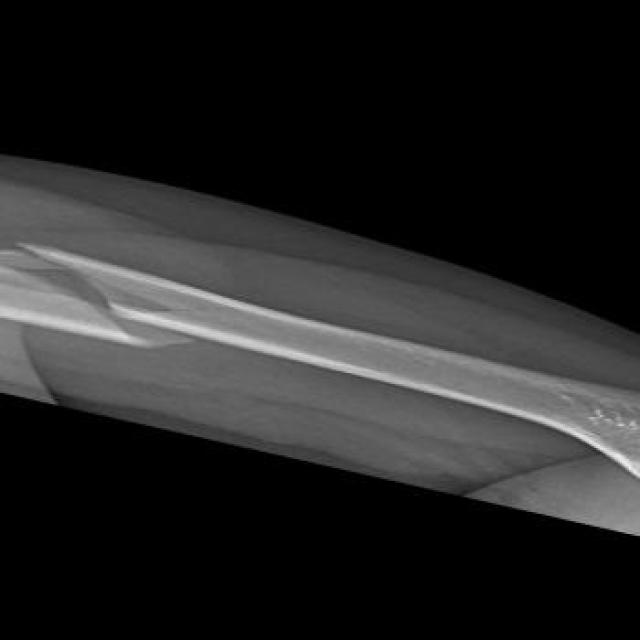Fracture: (0, 230, 215, 356)
